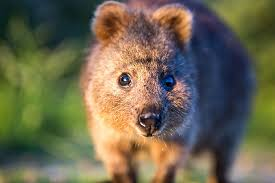quokka: (77, 1, 256, 177)
